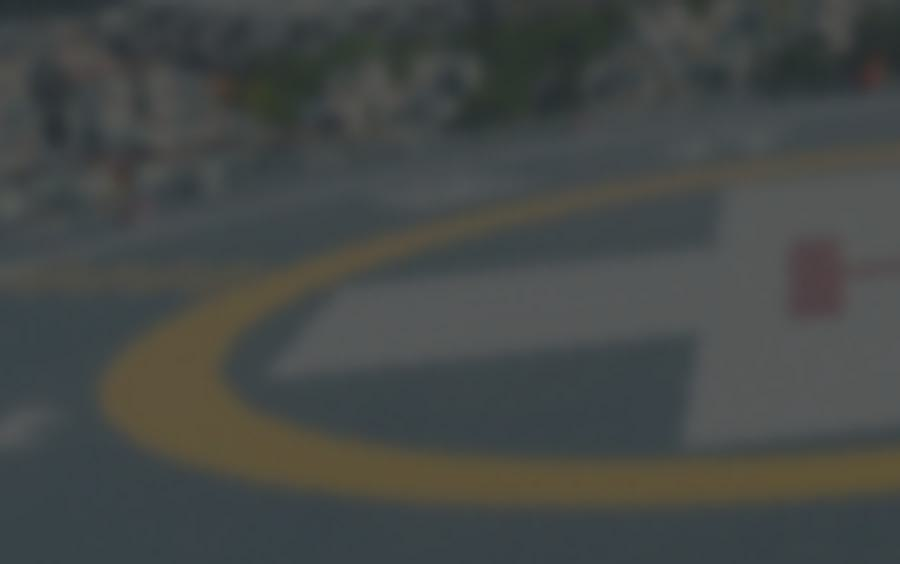Apron: (82, 119, 900, 518)
